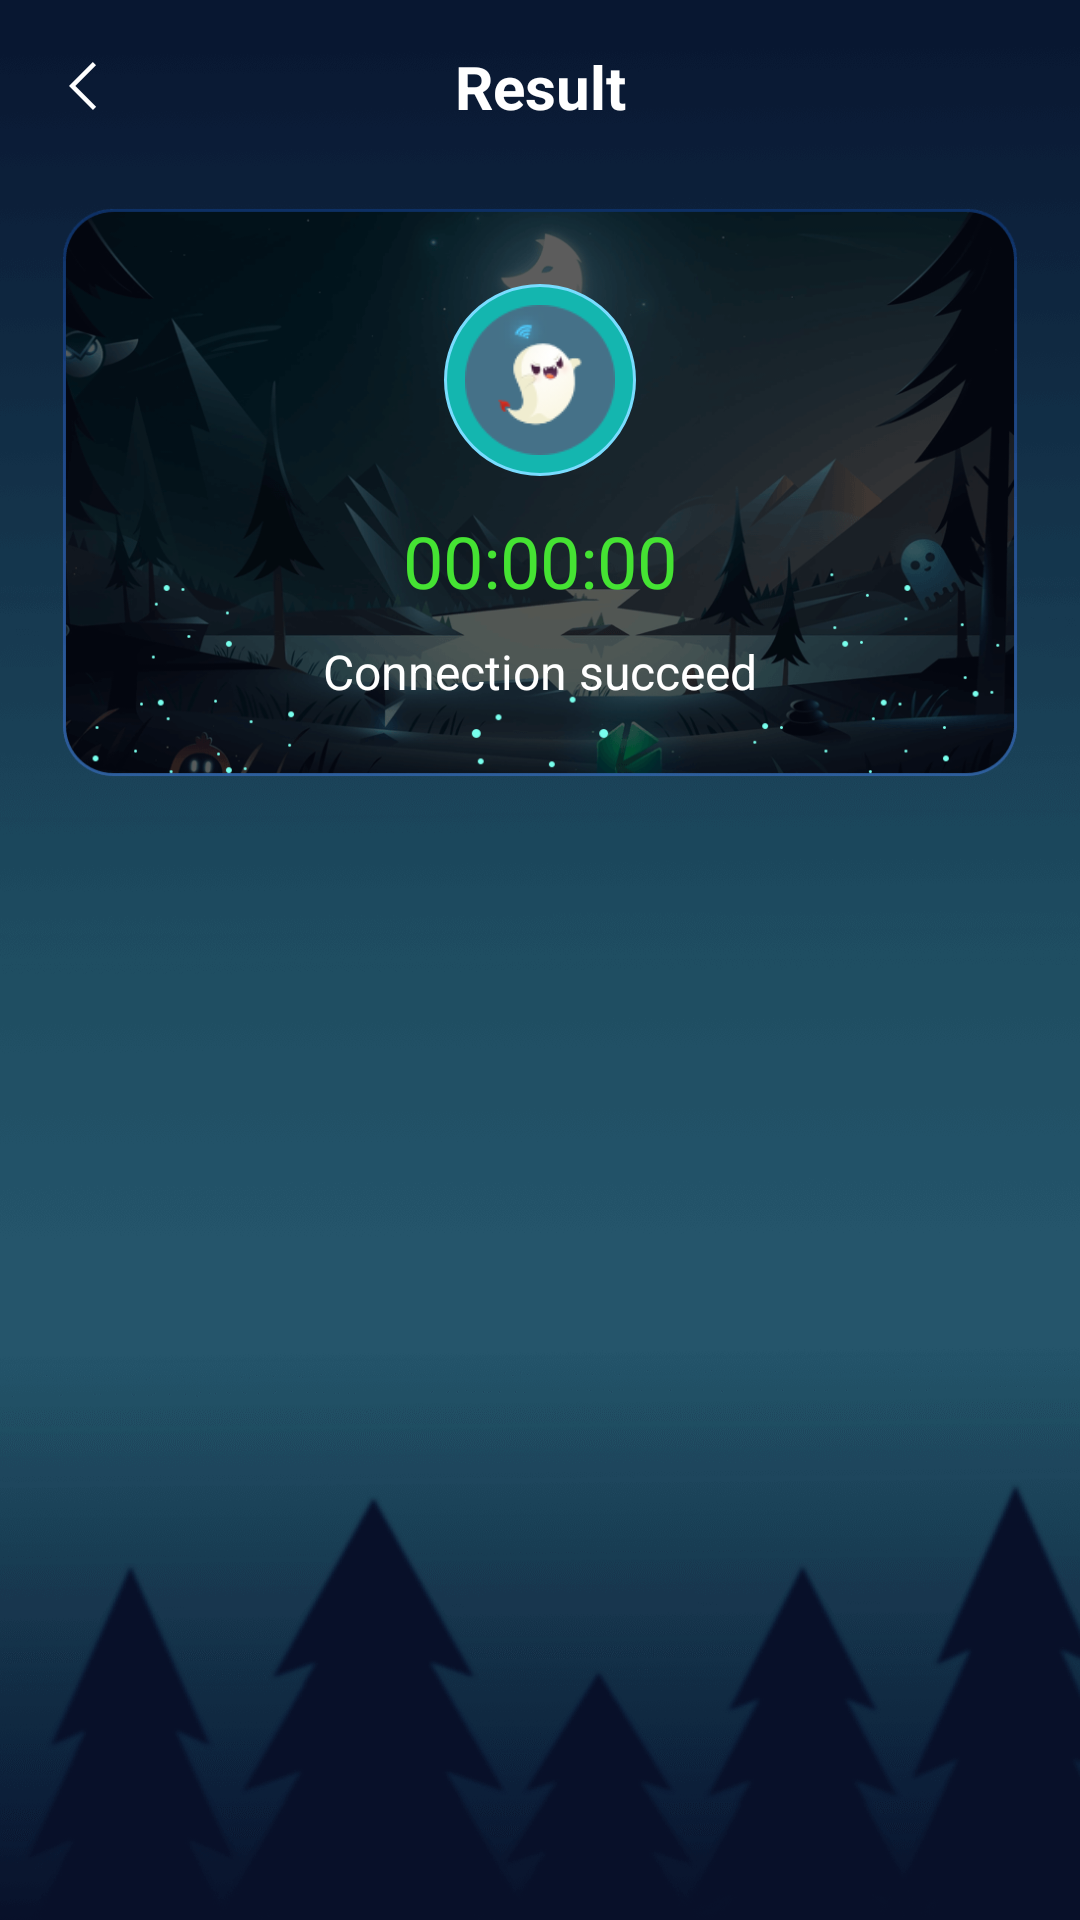

Named icons in this screenshot (1080×1920) and their centers, (x=x, y=y):
back: (x=82, y=86)
